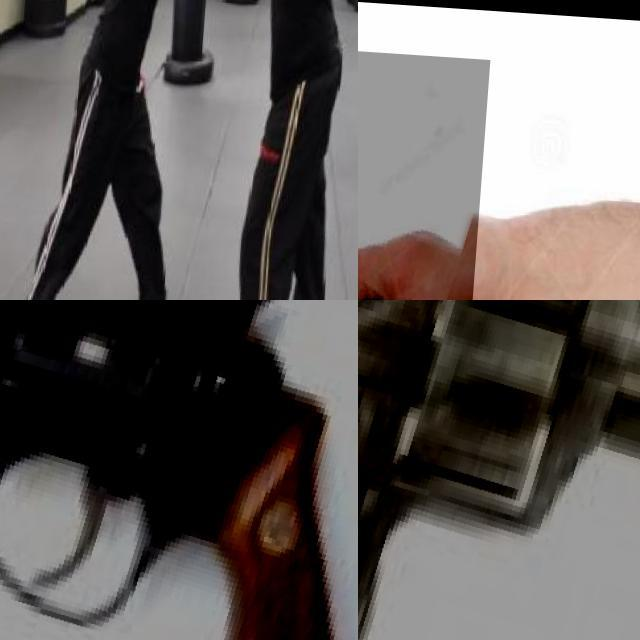-: (358, 34, 548, 300), (168, 0, 250, 39)
gun-knife-thesis - v11 Yolov5 augmented: (0, 300, 358, 640), (358, 300, 640, 640)
